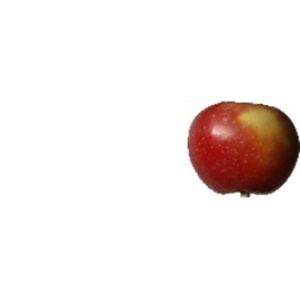maçã braeburn: (184, 99, 300, 198)
